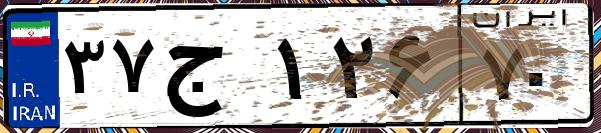0: (525, 38, 570, 115)
1: (270, 28, 330, 110)
2: (330, 28, 385, 110)
3: (57, 26, 110, 100)
6: (385, 28, 445, 110)
7: (475, 38, 525, 113), (110, 28, 158, 98)
ج: (158, 20, 270, 120)
